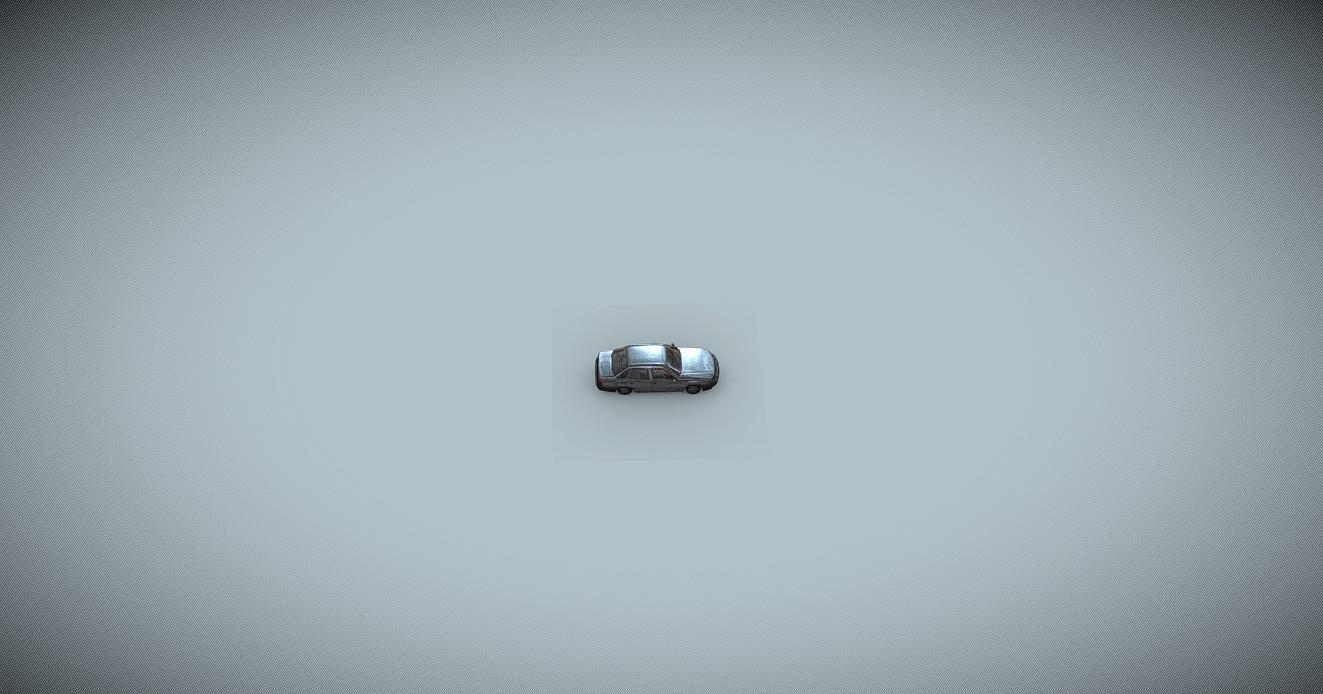Car: (593, 342, 719, 395)
